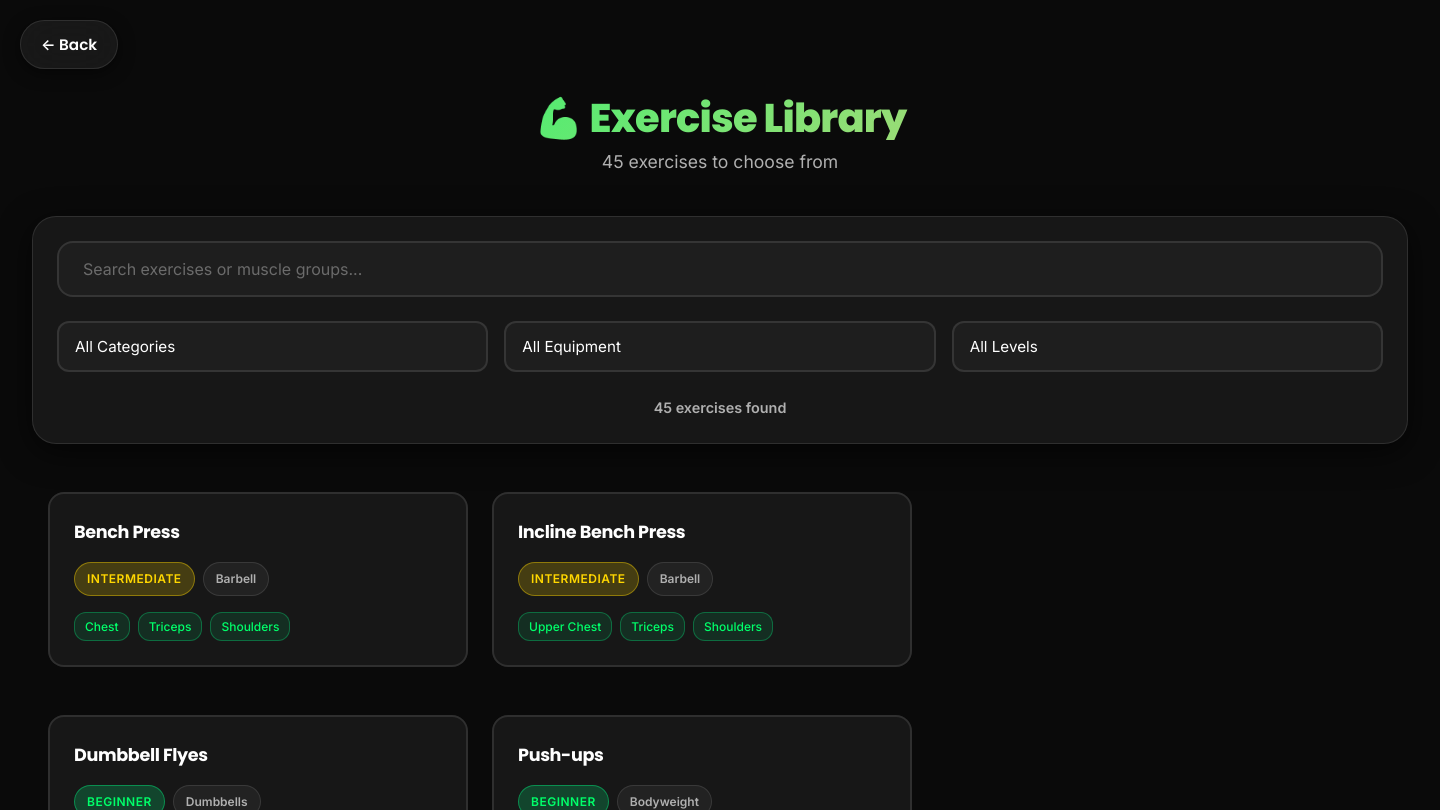
Test: ExerciseLibrary › Filter Functionality › should combine multiple filters
Select "Strength" in the 1st dropdown at (273, 347), box left=57, top=321, right=488, bottom=372
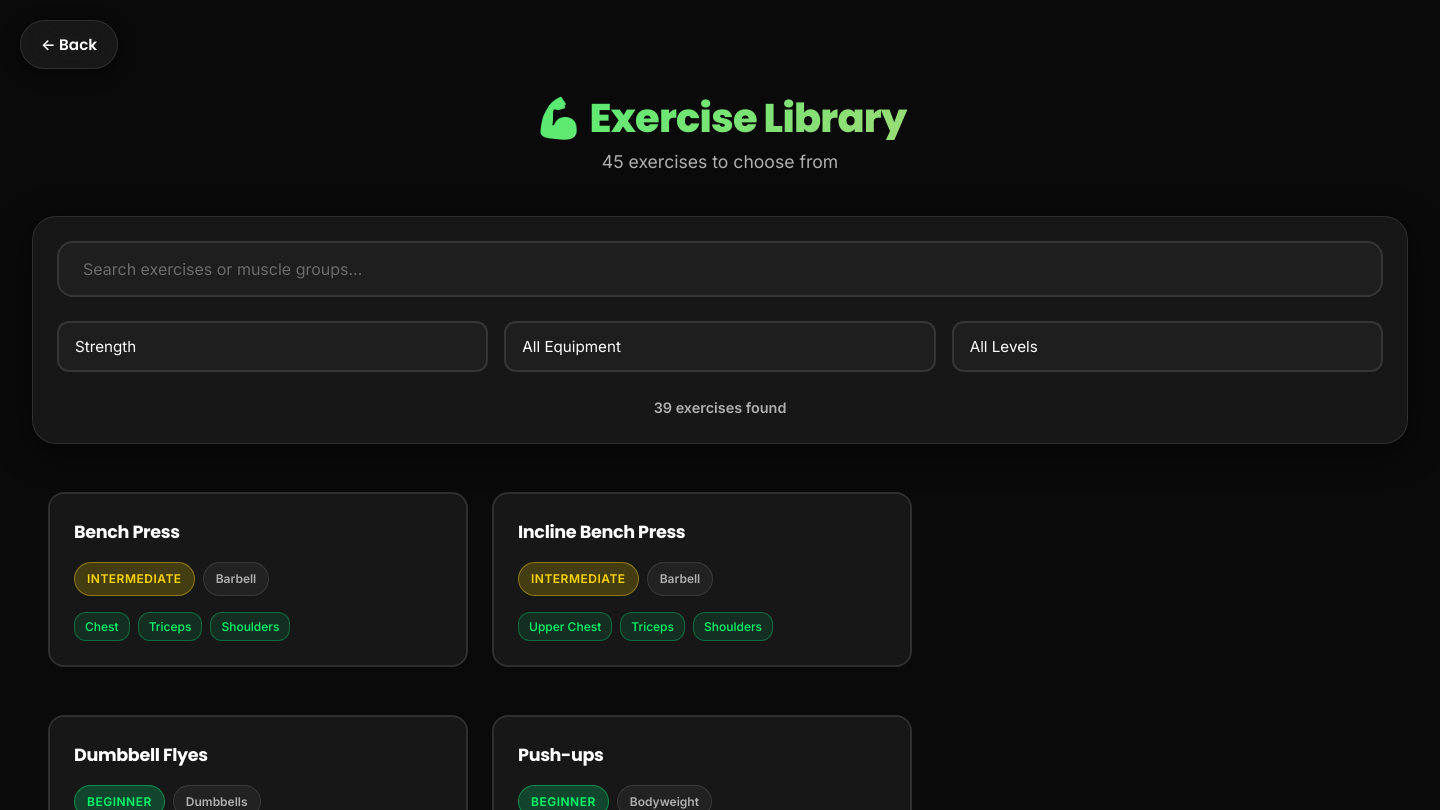
Select "Barbell" in the 2nd dropdown at (720, 347), box left=504, top=321, right=936, bottom=372
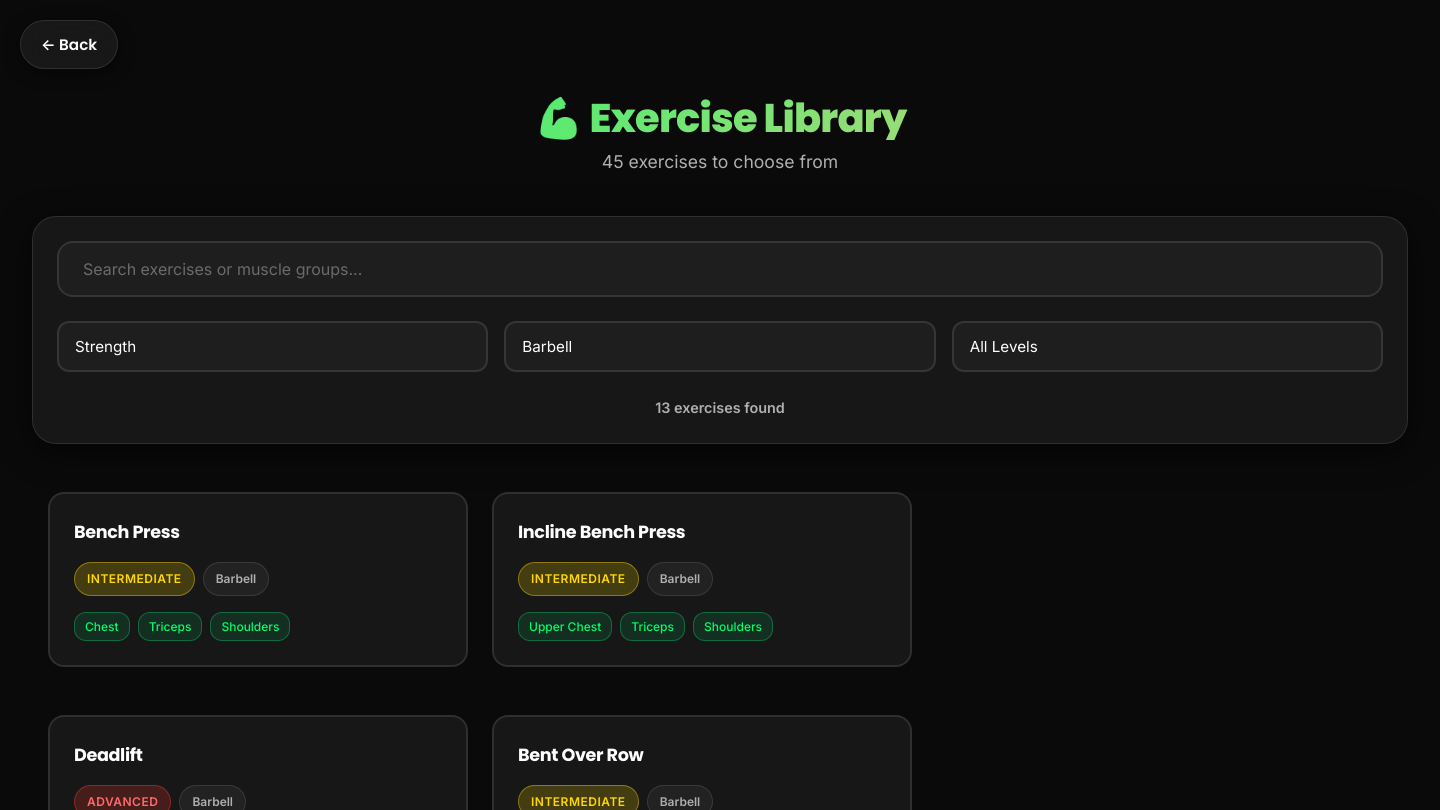
Select "Intermediate" in the 3rd dropdown at (1167, 347), box left=952, top=321, right=1383, bottom=372
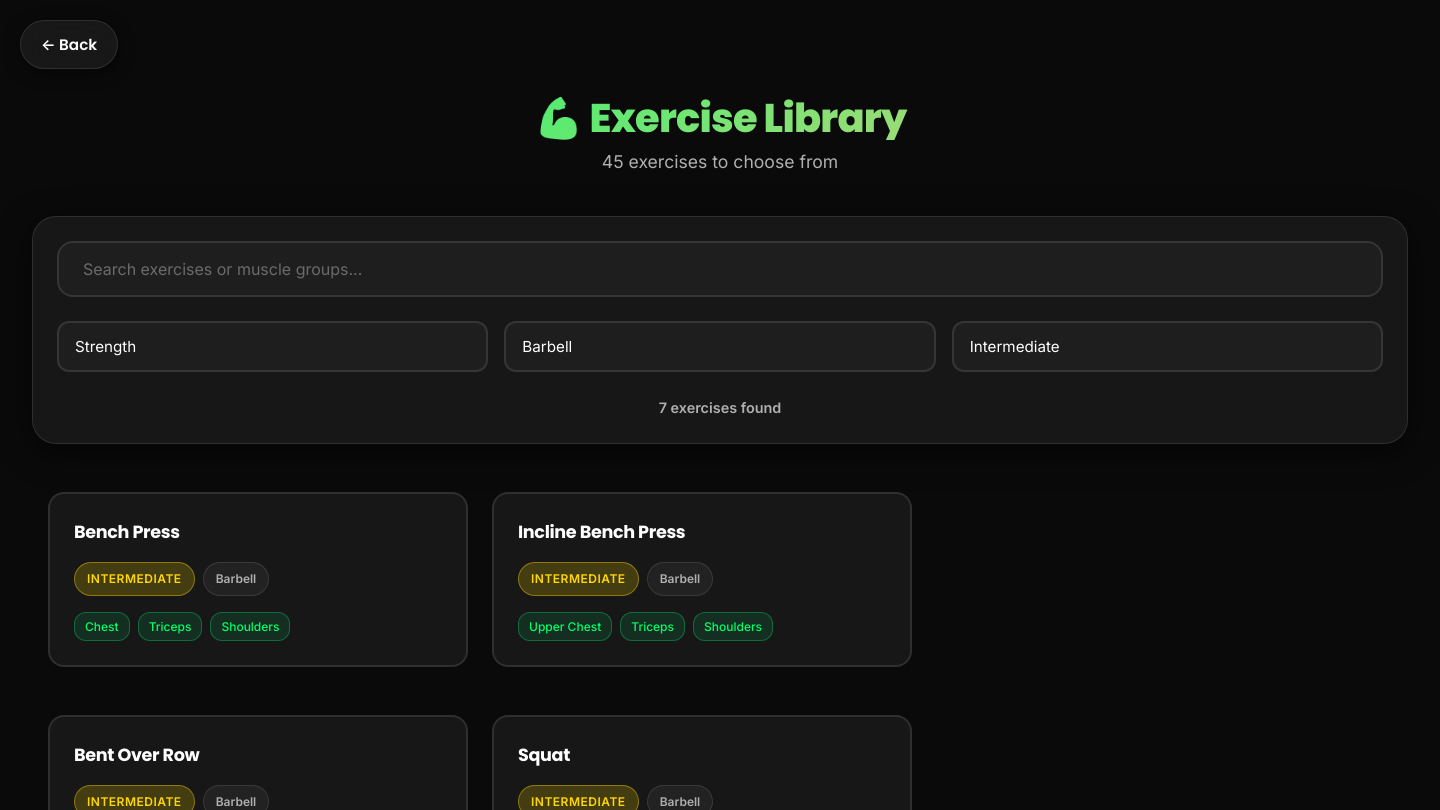
Check: the heading "Bench Press" is shown, box left=74, top=520, right=180, bottom=544
Check: the heading "Squat" is shown, box left=518, top=743, right=570, bottom=767
